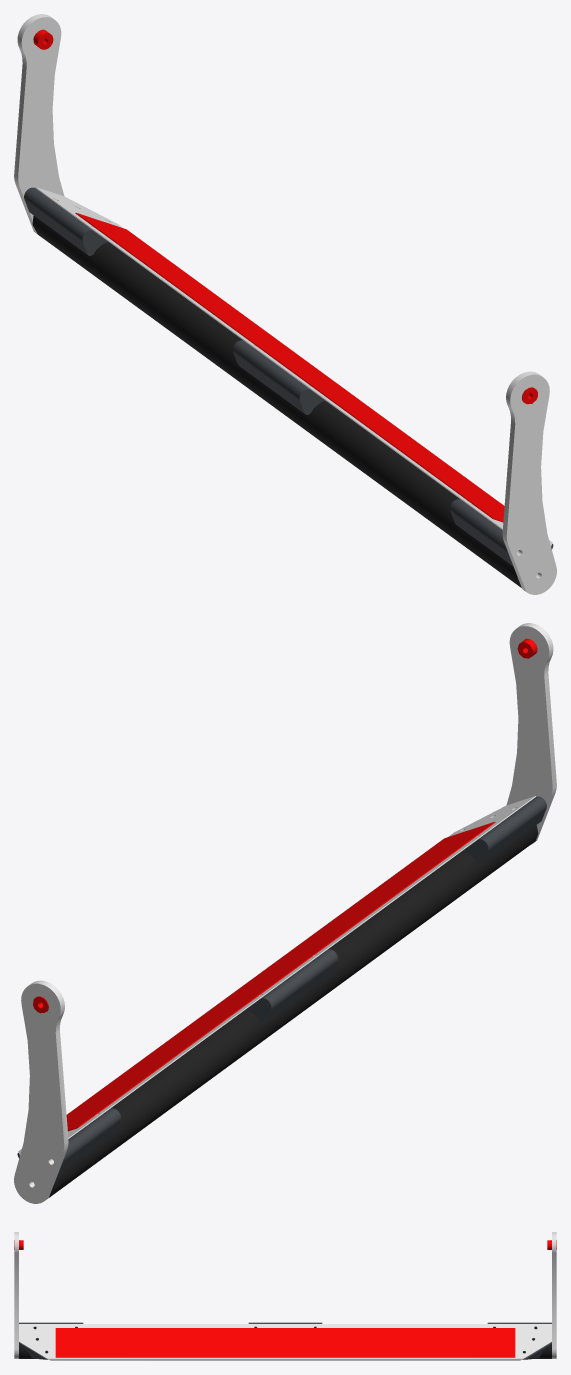
File: 1114-kicker.glb
The picture shows the model from 3 angles, top to bottom: view 1: azimuth 30°, elevation 25°; view 2: azimuth 150°, elevation 25°; view 3: azimuth 270°, elevation 25°; orthographic projection. The views are drawn at different scales.
Visible parts, largest first — view 1: Part 46, S26-IN-P303, Part 52, Part 44; view 2: Part 46, S26-IN-P303, Part 52, Part 44; view 3: Part 52, Part 46, Part 44, S26-IN-P303.
Boxes of the visible parts, x1=… form: Part 46: x1=14, y1=14, x2=556, y2=594; S26-IN-P303: x1=32, y1=216, x2=521, y2=587; Part 52: x1=33, y1=29, x2=537, y2=522; Part 44: x1=24, y1=187, x2=553, y2=566; Part 46: x1=14, y1=623, x2=556, y2=1203; S26-IN-P303: x1=49, y1=825, x2=538, y2=1197; Part 52: x1=33, y1=638, x2=537, y2=1131; Part 44: x1=17, y1=796, x2=546, y2=1175; Part 52: x1=14, y1=1240, x2=556, y2=1357; Part 46: x1=14, y1=1232, x2=556, y2=1360; Part 44: x1=19, y1=1322, x2=551, y2=1359; S26-IN-P303: x1=19, y1=1339, x2=551, y2=1358.
Size of the model in its own units: 0.0667 by 0.1857 by 0.7506.
